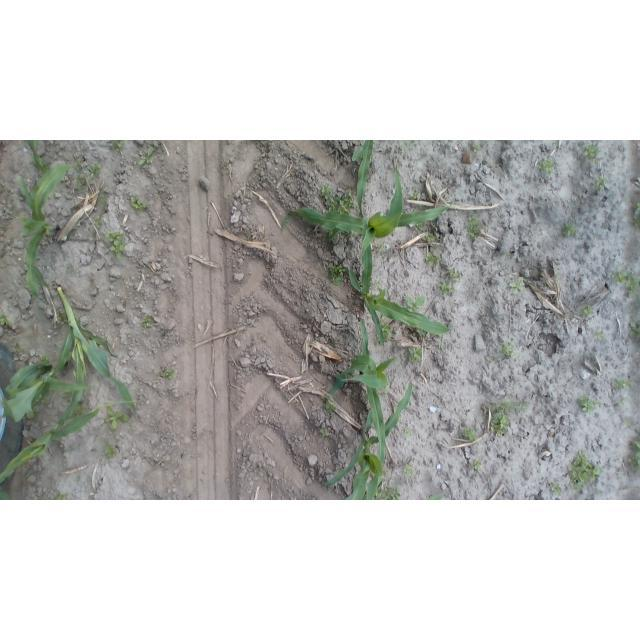Maize: (283, 163, 458, 294), (54, 286, 146, 425), (1, 400, 144, 483), (322, 381, 414, 500), (326, 317, 396, 467), (348, 269, 453, 346), (17, 163, 70, 300), (1, 359, 95, 422), (354, 142, 375, 219), (26, 141, 44, 172), (420, 490, 449, 500)
Weeds: (486, 401, 528, 436), (569, 450, 602, 492), (106, 405, 130, 431), (328, 192, 352, 216), (107, 231, 125, 258), (626, 440, 640, 469), (329, 265, 347, 284), (467, 216, 482, 237), (578, 396, 596, 412), (139, 147, 154, 166), (510, 278, 525, 295), (407, 296, 426, 309), (613, 269, 629, 284), (613, 378, 631, 391), (409, 347, 424, 362), (541, 158, 556, 173), (323, 395, 335, 413), (27, 405, 42, 419), (70, 404, 86, 417), (438, 282, 454, 295), (384, 487, 400, 500), (584, 145, 601, 157), (381, 322, 392, 340), (629, 321, 640, 339), (131, 196, 145, 210), (626, 276, 637, 293), (563, 222, 576, 236), (462, 429, 478, 440), (158, 369, 175, 379), (76, 176, 89, 189), (321, 184, 333, 198), (500, 342, 512, 356), (634, 202, 640, 230), (107, 443, 118, 457), (87, 166, 101, 177), (109, 141, 123, 151), (425, 256, 440, 265), (0, 314, 10, 327), (410, 188, 420, 200), (142, 317, 153, 327), (56, 313, 66, 324), (583, 306, 593, 317), (74, 162, 83, 173), (379, 242, 388, 253), (549, 483, 560, 492), (448, 268, 457, 278), (427, 232, 437, 240), (598, 177, 606, 187), (404, 466, 413, 474), (402, 428, 410, 437), (474, 459, 482, 468), (473, 144, 481, 152), (321, 428, 328, 437), (596, 331, 605, 338), (55, 493, 65, 499), (94, 219, 102, 226), (416, 223, 424, 230), (161, 329, 167, 336)
